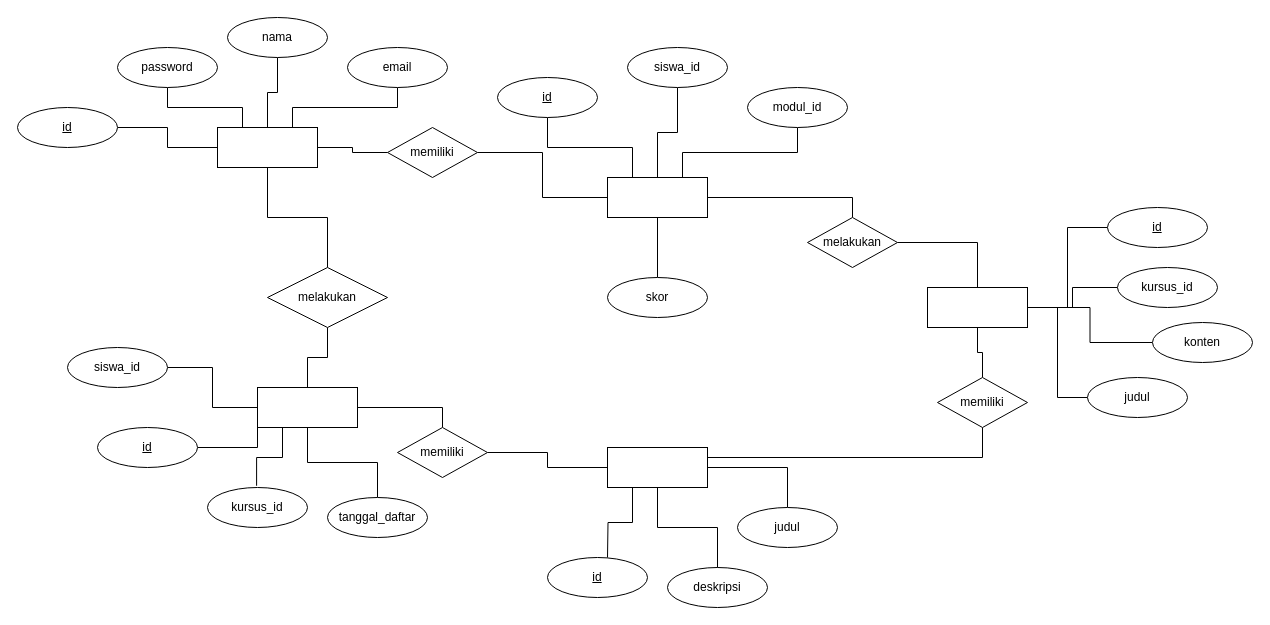
Image size: 1270x625. Some labels were removed from this diagram. The shapes that lost their labels are listed below. From the top down, each one's centre as x and y in pixels, then its label:
At point 267,147: "user".
At point 657,197: "nilai".
At point 977,307: "modul".
At point 307,407: "daftar".
At point 657,467: "kursus".
